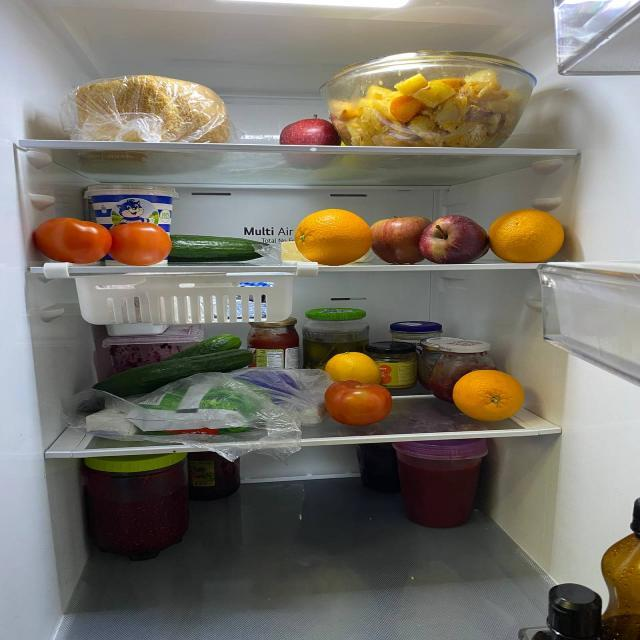Apple: (417, 216, 488, 265), (362, 213, 424, 256), (274, 118, 342, 147)
Cucumber: (75, 346, 256, 401), (162, 233, 268, 264), (153, 331, 243, 354)
Orange: (482, 209, 570, 260), (295, 207, 368, 261), (448, 370, 527, 417), (326, 348, 378, 383)
Tomato: (22, 213, 116, 266), (90, 213, 172, 262), (324, 382, 391, 421)
